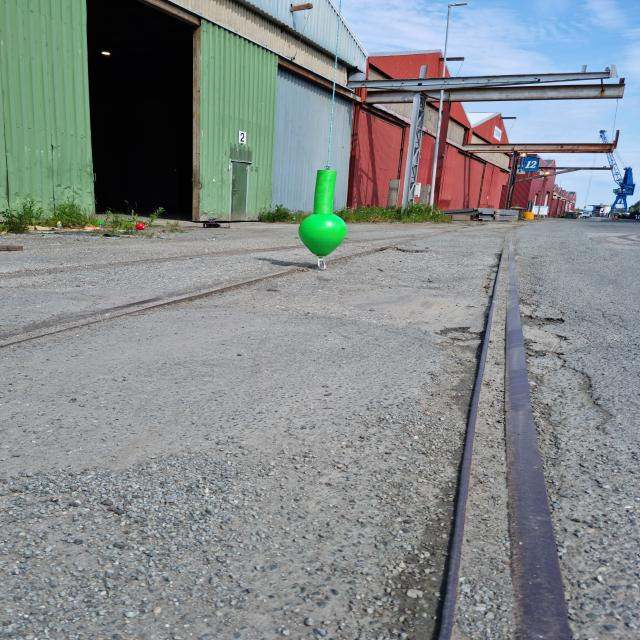green: (299, 170, 348, 256)
